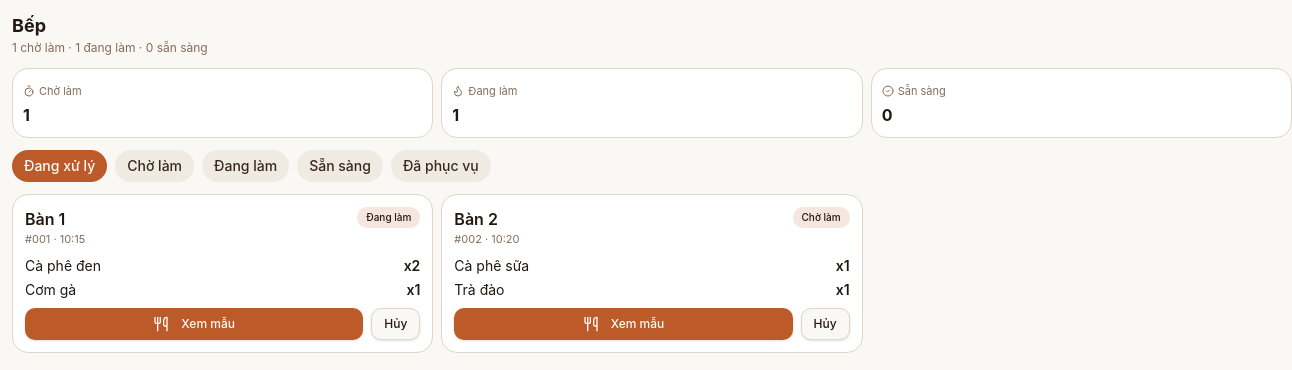
Test: KitchenPanel › shows exact text 'Chưa có phiếu bếp nào' when the active filter has no tickets
What coordinates should you click on to do the following:
click the button "Sẵn sàng"
I would click on:
 (340, 166)
Its box is x1=297 y1=150 x2=383 y2=182.
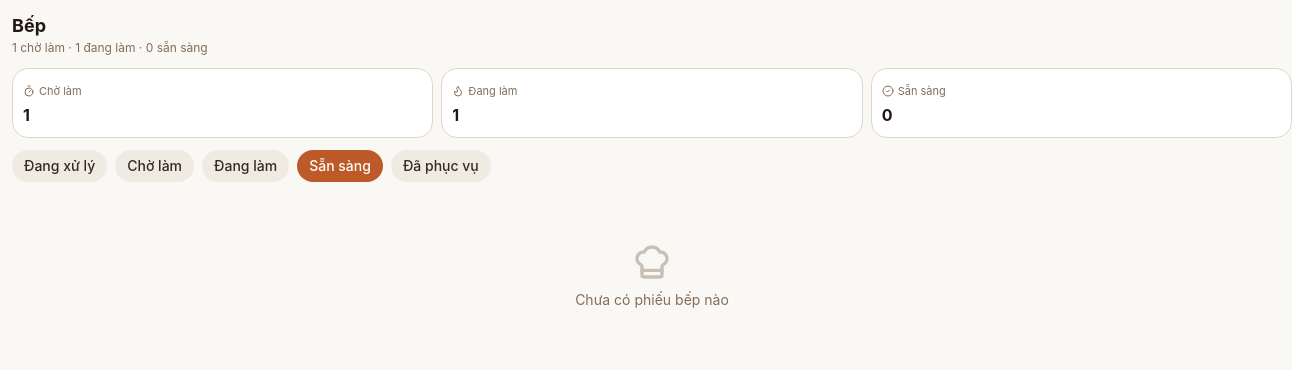
Check: the text "Chưa có phiếu bếp nào" is shown, box x1=575 y1=290 x2=729 y2=310
